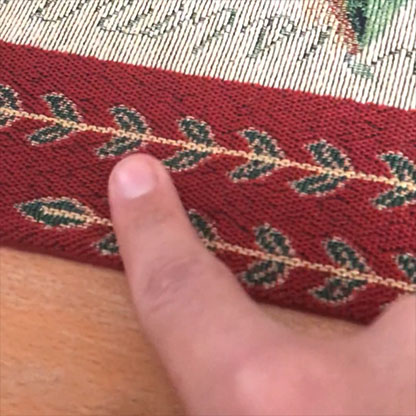fingertip: (89, 138, 196, 214)
